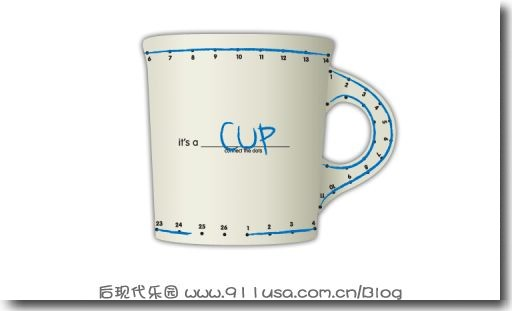cup: (138, 32, 396, 248)
